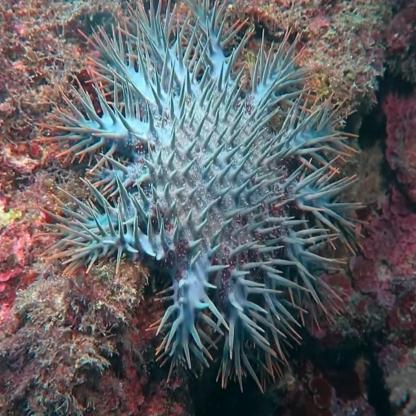Crown of Thorns Starfish: (31, 2, 370, 400)
